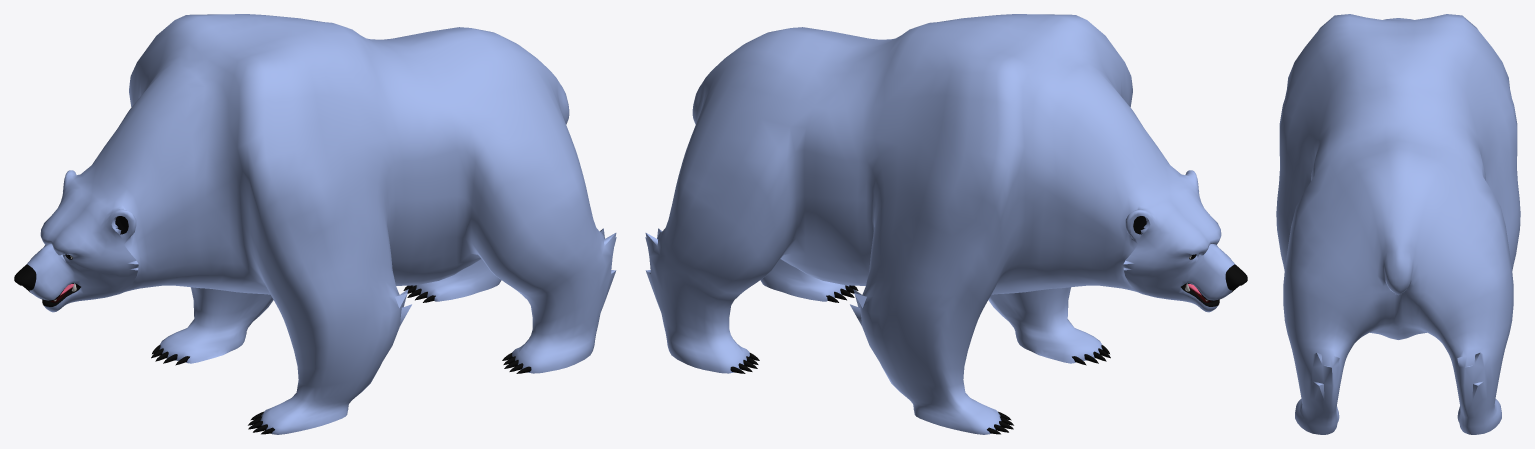
File: polar_bear.FBX
The picture shows the model from 3 angles, left to right: view 1: azimuth 30°, elevation 25°; view 2: azimuth 150°, elevation 25°; view 3: azimuth 270°, elevation 25°; orthographic projection. The views are drawn at different scales.
Visible parts, largest first — view 1: polar_bear; view 2: polar_bear; view 3: polar_bear.
Boxes of the visible parts, x1=… form: polar_bear: x1=14, y1=14, x2=616, y2=434; polar_bear: x1=645, y1=14, x2=1247, y2=434; polar_bear: x1=1276, y1=14, x2=1520, y2=434.
Size of the model in its own units: 3.05 by 1.39 by 1.82.
